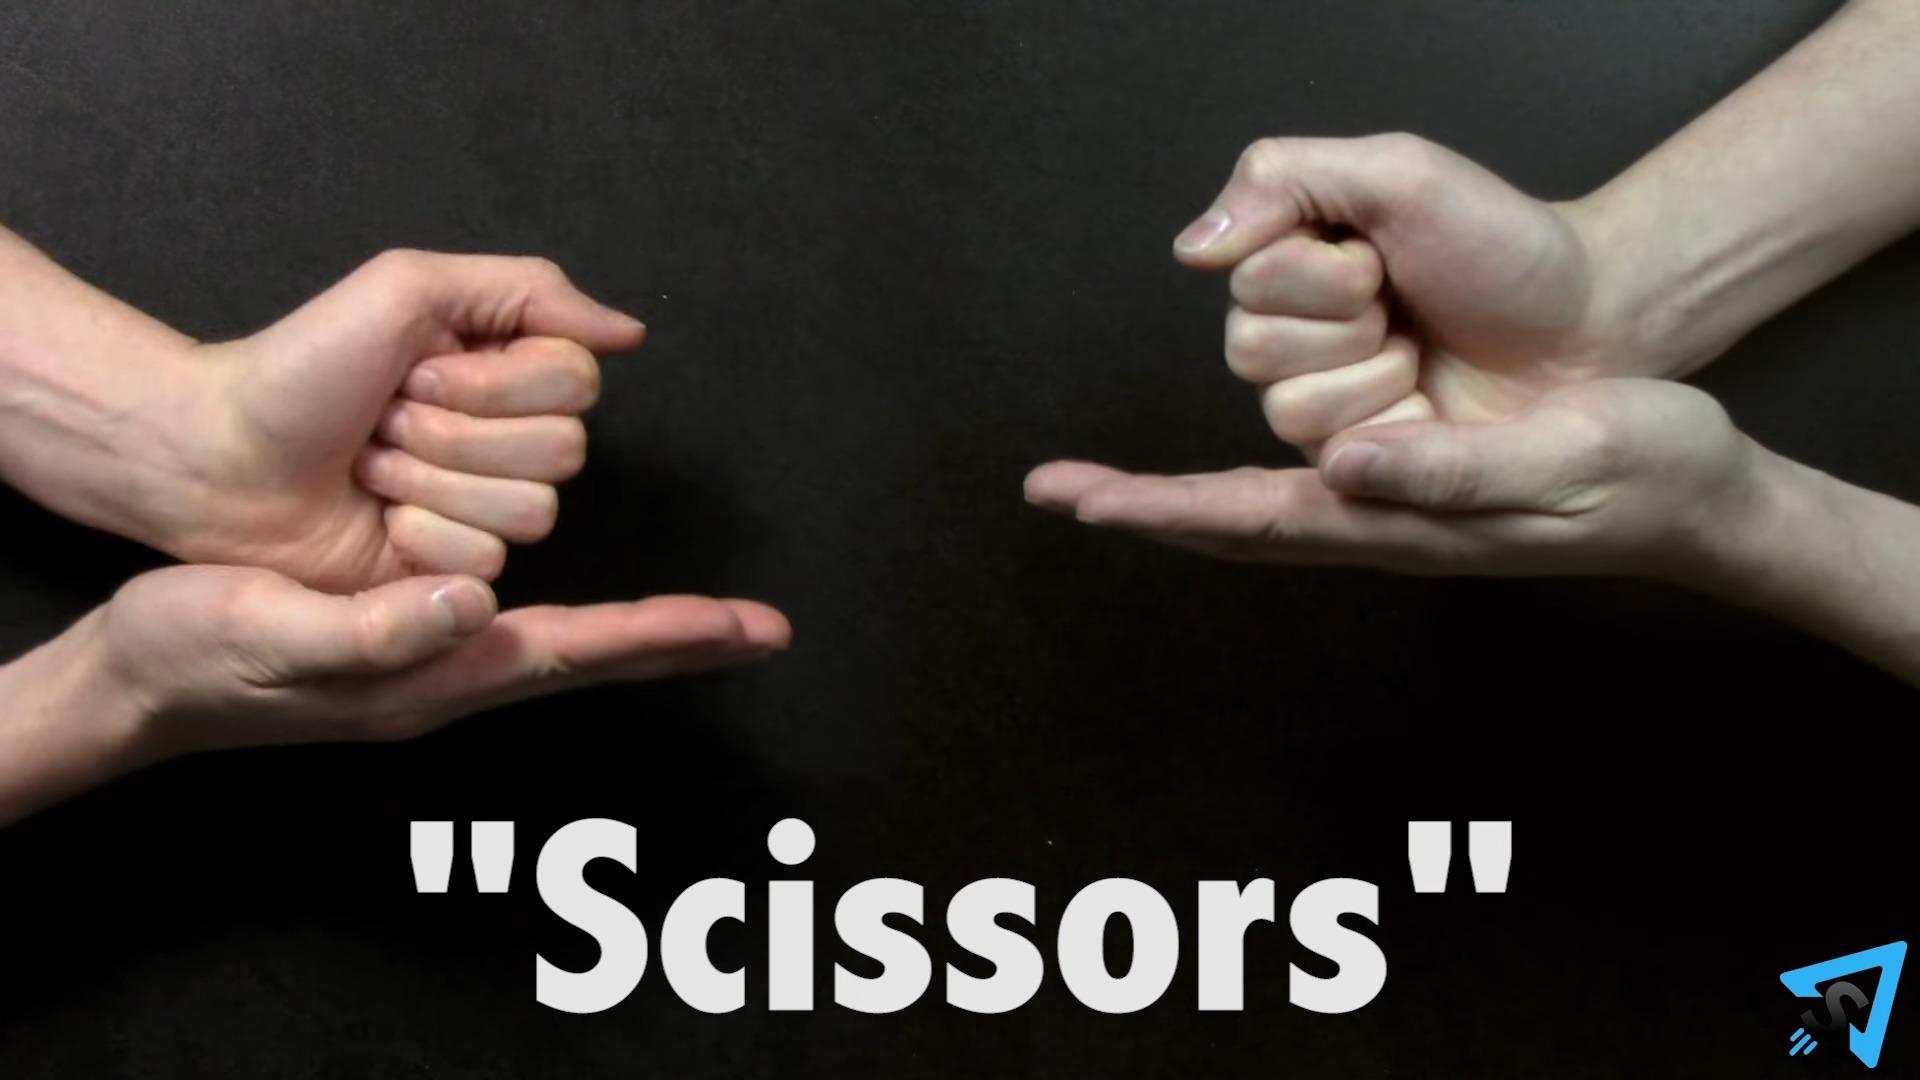Rock: (1180, 135, 1665, 454), (204, 243, 646, 589)
